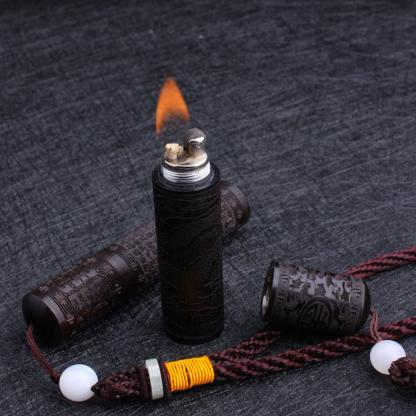fire: (149, 69, 208, 160)
